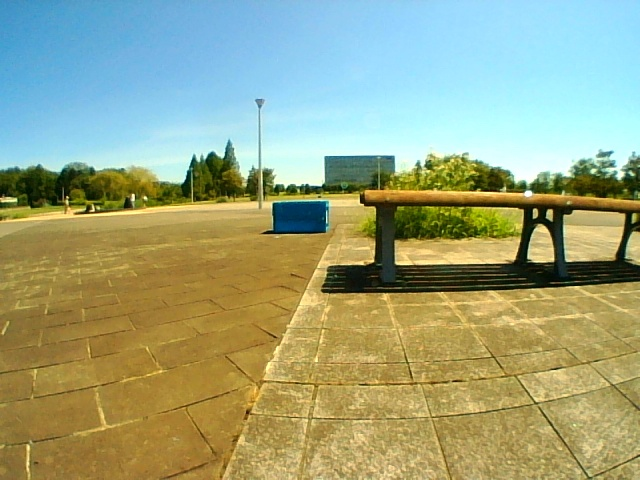blue_box: (273, 202, 329, 233)
tag: (326, 211, 328, 223)
